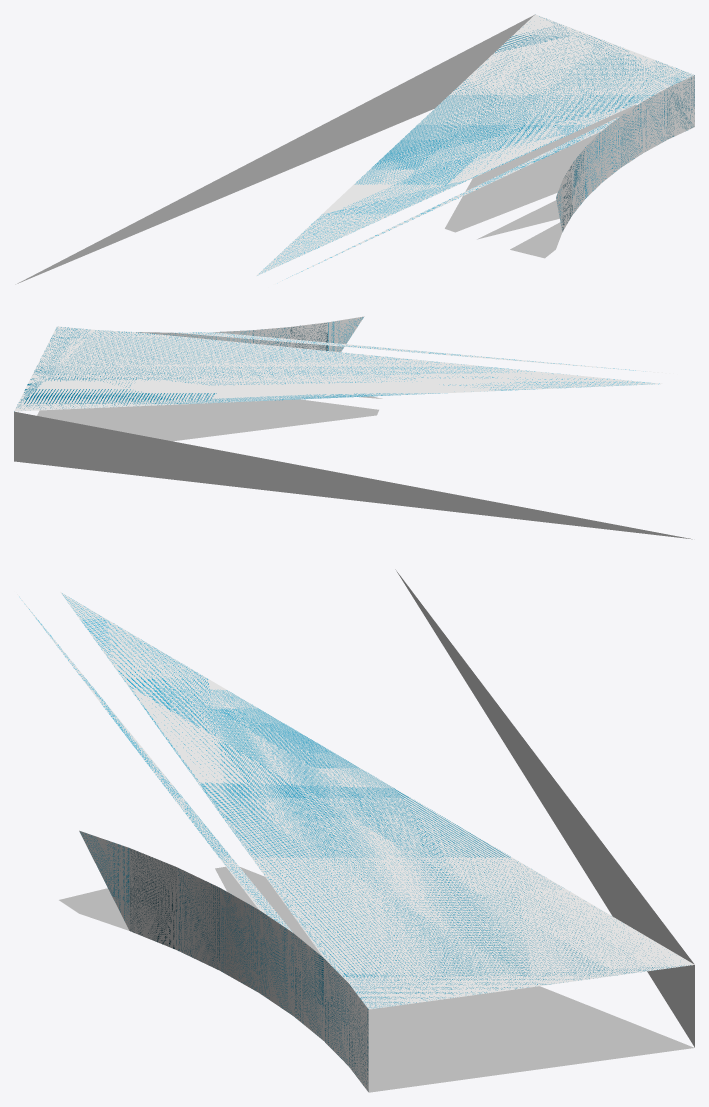
3 views of the same model, one above another, from view 1: azimuth 30°, elevation 25°; view 2: azimuth 150°, elevation 25°; view 3: azimuth 270°, elevation 25° (orthographic). The views are drawn at different scales.
Size of the model in its own units: 0.2527 by 0.0187 by 0.1387.
